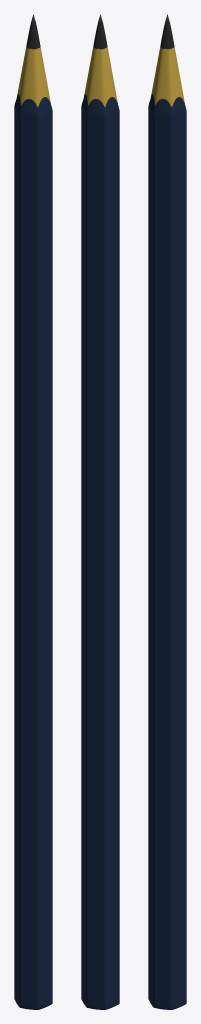
Rendered from Pencil.obj.
3 renders of one model, left to right at view 1: azimuth 90°, elevation 25°; view 2: azimuth 150°, elevation 25°; view 3: azimuth 330°, elevation 25°, orthographic.
Visible parts, largest first — view 1: pencil_Cylinder.002; view 2: pencil_Cylinder.002; view 3: pencil_Cylinder.002.
Boxes of the visible parts, box(x1,y1,x2,y2) form: pencil_Cylinder.002: box(14, 14, 52, 1009); pencil_Cylinder.002: box(81, 14, 119, 1009); pencil_Cylinder.002: box(148, 14, 186, 1009).
Bounding box in the file's own units: 1.35 × 38.47 × 1.35.
